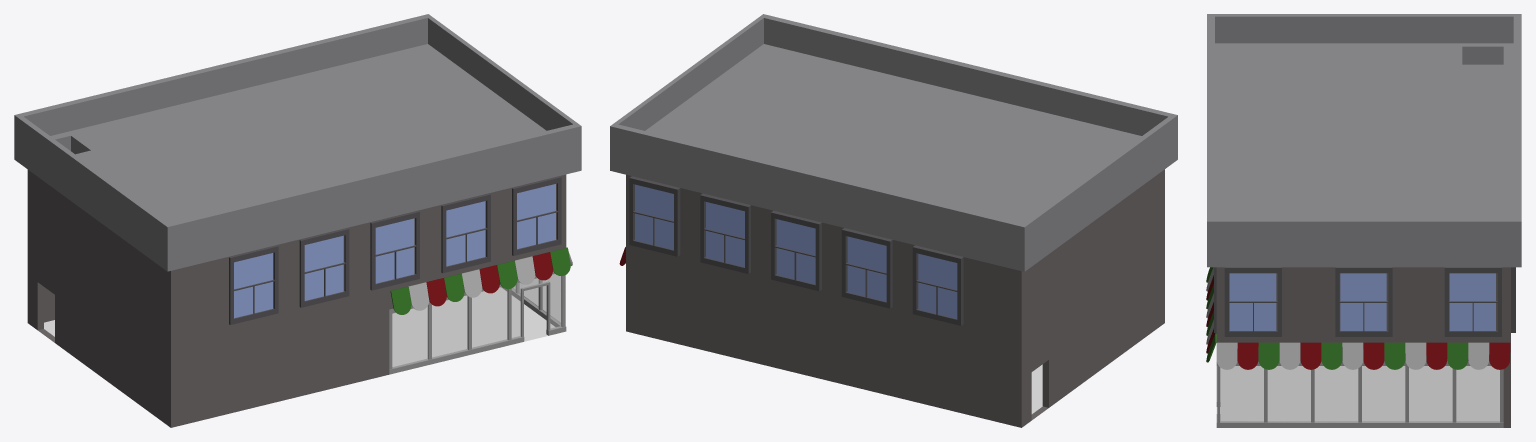
File: pizzeria.fbx
3 renders of one model, left to right at view 1: azimuth 30°, elevation 25°; view 2: azimuth 150°, elevation 25°; view 3: azimuth 270°, elevation 25°, orthographic. The views are drawn at different scales.
Parts seen in each view (by area): view 1: Cube.001, Cube, Wall, Wall.002, Glass1, Plane, window-glass.003, Glass-walls, window-glass, window-glass.001, window-glass.002, window-glass.004 (+1 smaller); view 2: Cube.001, Wall.001, Cube, Wall.002, window-glass.012, window-glass.006, window-glass.011, window-glass.009, window-glass.010; view 3: Cube.001, Glass2, Plane, Cube, window-glass.005, window-glass.007, window-glass.008, Glass-walls, Wall.001, flagpart-green.006, flagpart-red.003, flagpart-red.005 (+12 smaller).
Part boxes in pixels (x1,y1,x2,y2): Cube.001: [14, 14, 581, 271]; Cube: [27, 169, 566, 344]; Wall: [177, 291, 393, 426]; Wall.002: [27, 240, 177, 427]; Glass1: [392, 274, 562, 367]; Plane: [44, 287, 554, 366]; window-glass.003: [299, 228, 349, 307]; Glass-walls: [389, 271, 566, 374]; window-glass: [512, 176, 561, 255]; window-glass.001: [441, 193, 490, 273]; window-glass.002: [370, 211, 419, 290]; window-glass.004: [229, 245, 278, 324]; Cube.001: [610, 14, 1177, 271]; Wall.001: [626, 248, 1015, 426]; Cube: [626, 169, 1164, 344]; Wall.002: [1015, 240, 1164, 427]; window-glass.012: [912, 245, 963, 325]; window-glass.006: [629, 176, 680, 256]; window-glass.011: [841, 228, 892, 308]; window-glass.009: [700, 193, 750, 273]; window-glass.010: [771, 210, 821, 291]; Cube.001: [1207, 14, 1521, 267]; Glass2: [1220, 366, 1499, 422]; Plane: [1216, 366, 1499, 421]; Cube: [1216, 267, 1510, 342]; window-glass.005: [1224, 267, 1281, 336]; window-glass.007: [1335, 267, 1392, 336]; window-glass.008: [1444, 267, 1501, 336]; Glass-walls: [1216, 361, 1503, 427]; Wall.001: [1237, 342, 1510, 427]; flagpart-green.006: [1384, 342, 1405, 369]; flagpart-red.003: [1237, 342, 1258, 369]; flagpart-red.005: [1363, 342, 1384, 369].
Size of the model in its own units: 46.83 by 22.28 by 30.05.
